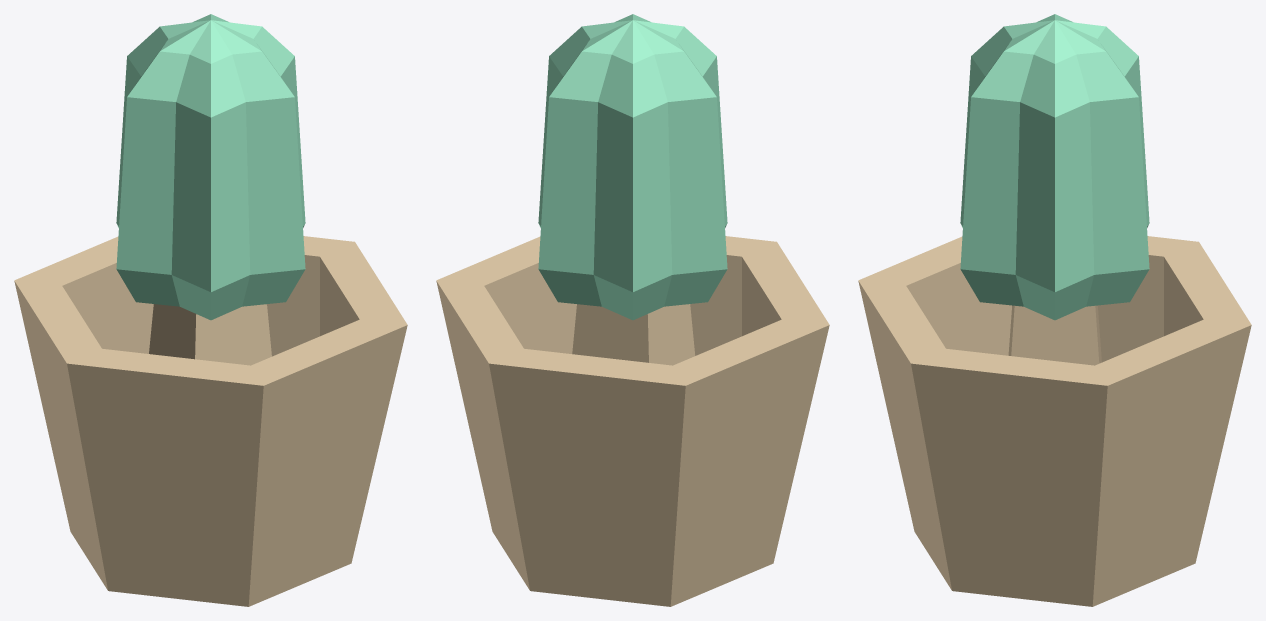
File: plantSmall2.glb
The picture shows the model from 3 angles, left to right: view 1: azimuth 30°, elevation 25°; view 2: azimuth 150°, elevation 25°; view 3: azimuth 270°, elevation 25°; orthographic projection.
Visible parts, largest first — view 1: plantSmall2; view 2: plantSmall2; view 3: plantSmall2.
Part boxes in pixels (<box>): plantSmall2: <box>14,14,407,606</box>; plantSmall2: <box>436,14,829,606</box>; plantSmall2: <box>858,14,1251,606</box>.
Bounding box in the file's own units: 0.9466 × 1.4 × 0.9466.
